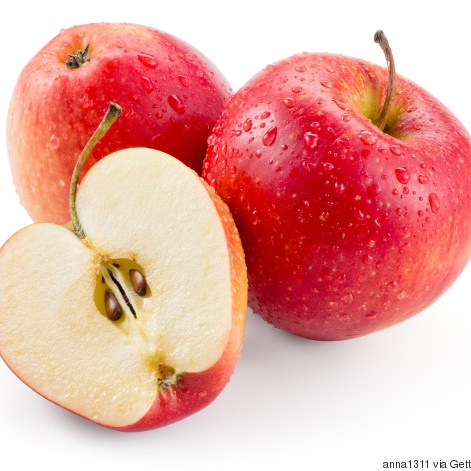apple: (201, 51, 471, 346), (1, 148, 247, 436), (11, 21, 236, 229)
